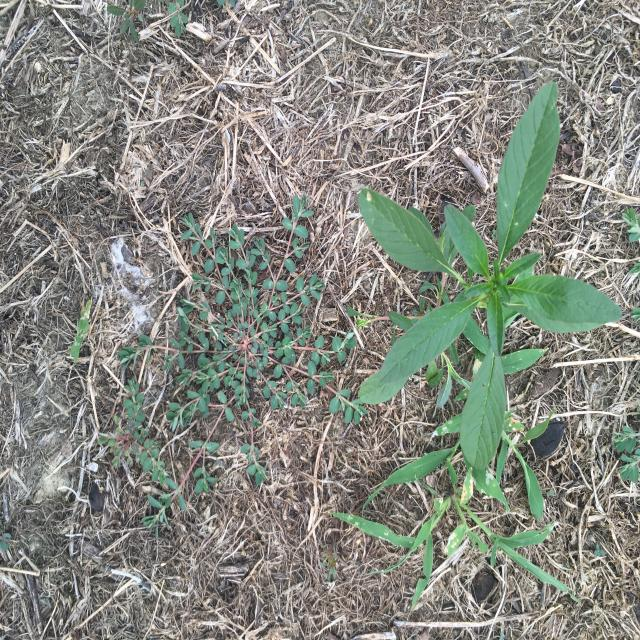SpottedSpurge: (116, 193, 369, 544), (96, 376, 170, 487), (610, 421, 638, 486)
Waterhemp: (354, 79, 624, 472)
